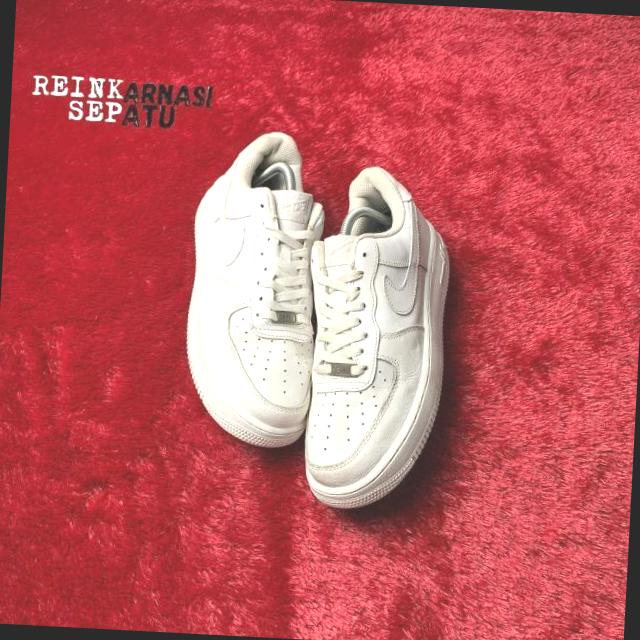nike_fake_airforce: (298, 167, 462, 518), (178, 126, 334, 448)
